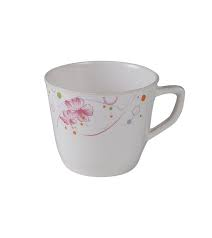cup: (43, 60, 187, 180)
